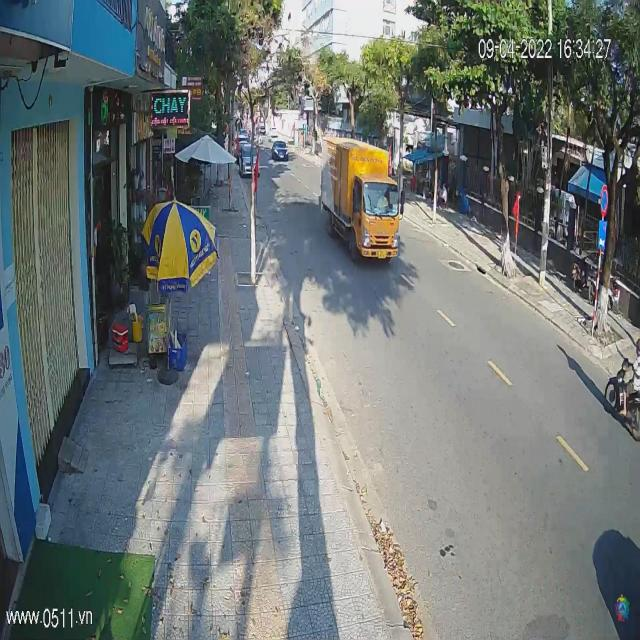bus: (321, 135, 404, 261)
car: (271, 140, 288, 160)
